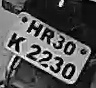0: (63, 38, 76, 57), (62, 61, 75, 80)
2: (25, 42, 41, 63), (40, 48, 50, 69)
3: (50, 55, 63, 76), (54, 35, 65, 53)
H: (27, 18, 41, 38)
K: (7, 31, 24, 54)
R: (42, 25, 54, 45)
